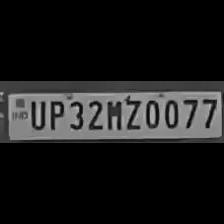0: (142, 97, 160, 129), (161, 97, 179, 129)
2: (85, 97, 103, 131)
3: (66, 97, 84, 130)
7: (198, 96, 218, 130), (180, 96, 196, 130)
M: (102, 97, 122, 130)
P: (46, 97, 64, 131)
U: (27, 98, 45, 130)
Z: (122, 96, 140, 130)
